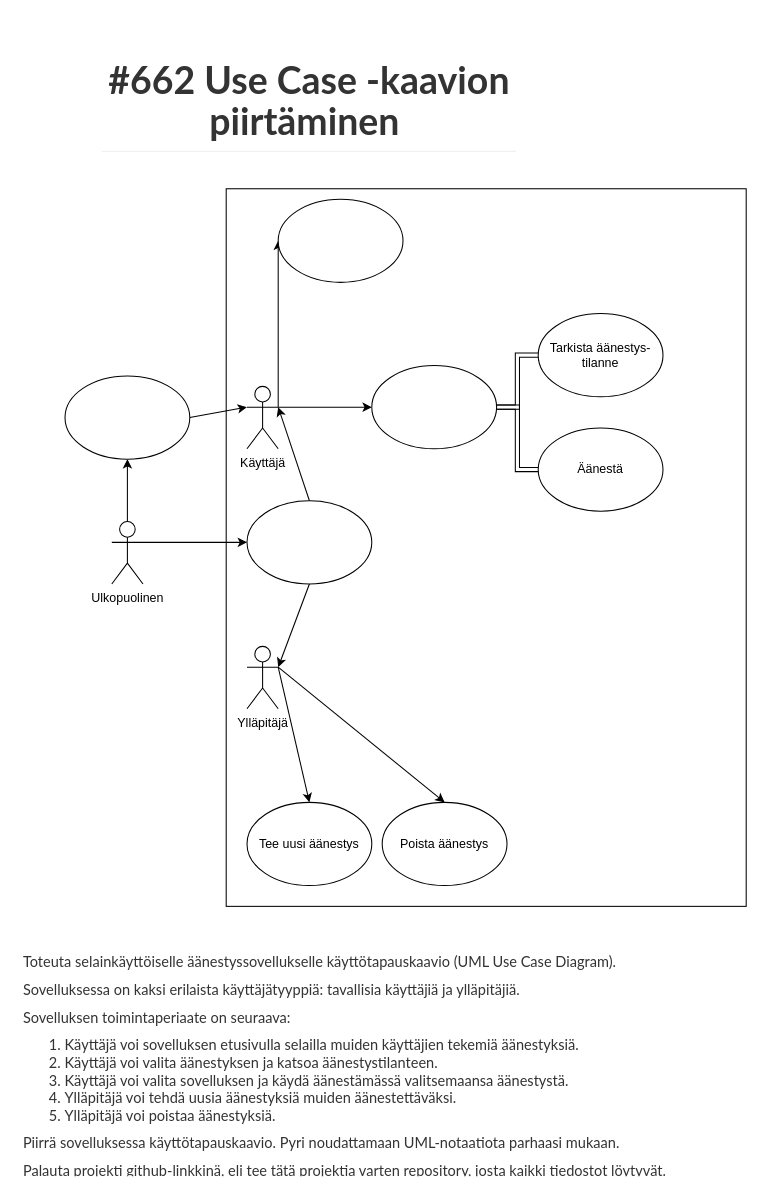
Some shapes in this 774 by 1197 pixel diagram are drawn without their labels. Here are the shapes that lost their labels. From the top down, the centre of each, then its label:
At [340,240]: "Selaa äänestyksiä".
At [127,417]: "Rekisteröinti".
At [434,407]: "Valitse äänestys".
At [309,542]: "Kirjautuminen".
